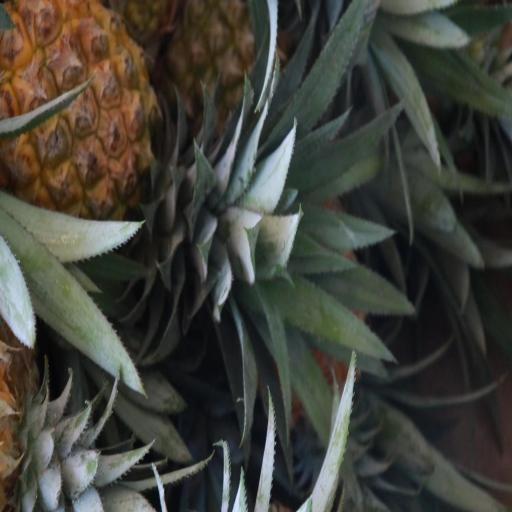Pineapple - v8 v1: (0, 0, 189, 216)
